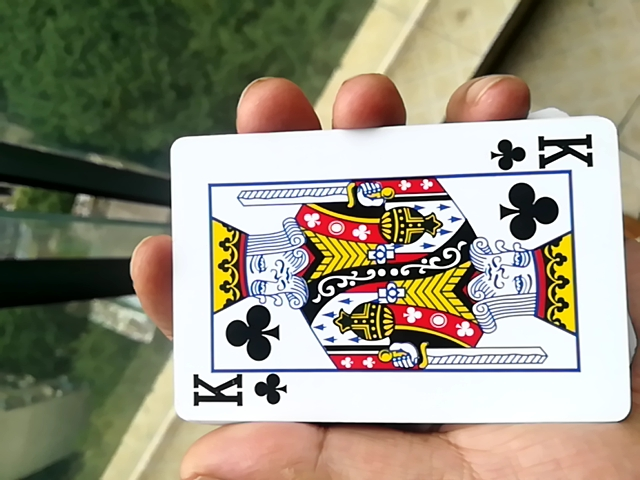mh k: (152, 123, 626, 435)
